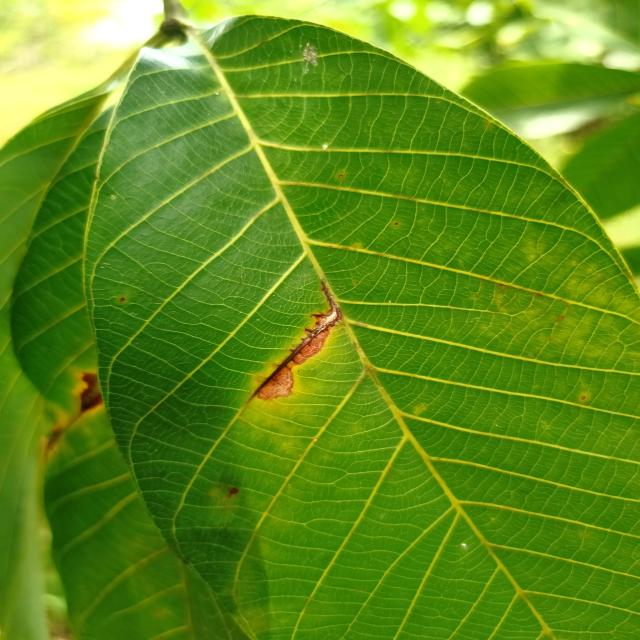Corynespora: (254, 280, 344, 395)
Leaf-Blight: (258, 368, 294, 402)
